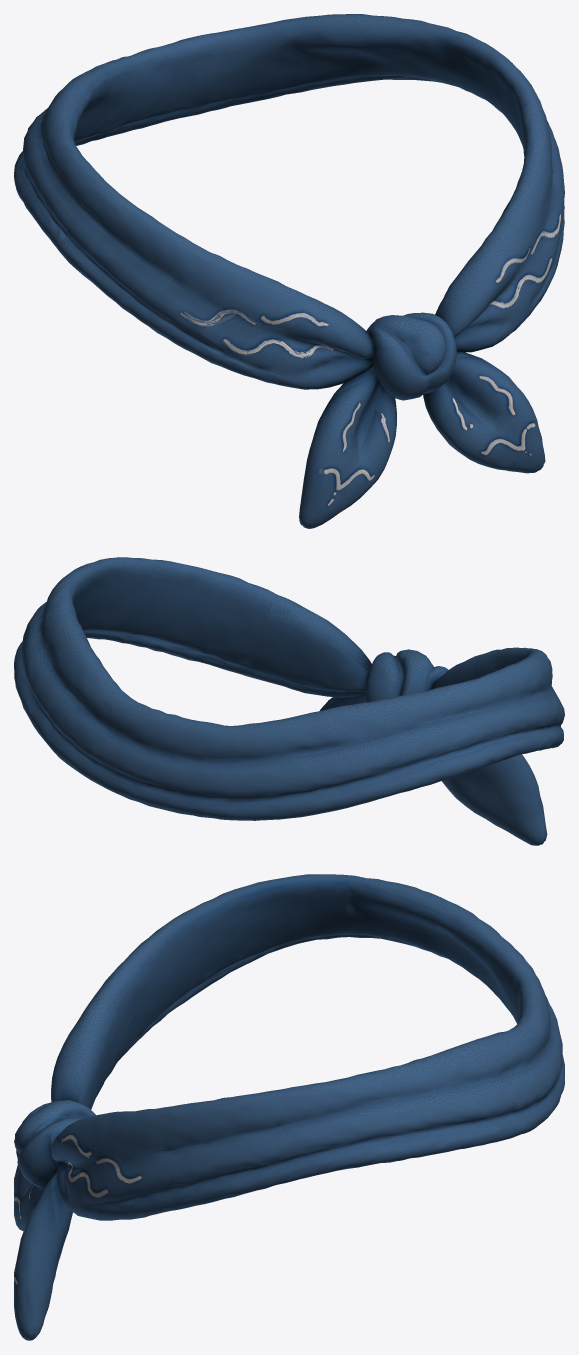
Rendered from mem_ac_bluescarf.fbx.
3 renders of one model, top to bottom at view 1: azimuth 30°, elevation 25°; view 2: azimuth 150°, elevation 25°; view 3: azimuth 270°, elevation 25°, orthographic. The views are drawn at different scales.
Parts seen in each view (by area): view 1: tripo_node_d3c2f04d; view 2: tripo_node_d3c2f04d; view 3: tripo_node_d3c2f04d.
Part boxes in pixels (x1,y1,x2,y2): tripo_node_d3c2f04d: [14, 14, 564, 528]; tripo_node_d3c2f04d: [14, 557, 564, 845]; tripo_node_d3c2f04d: [14, 874, 564, 1340].
Bounding box in the file's own units: 0.998 × 0.5957 × 0.959.
